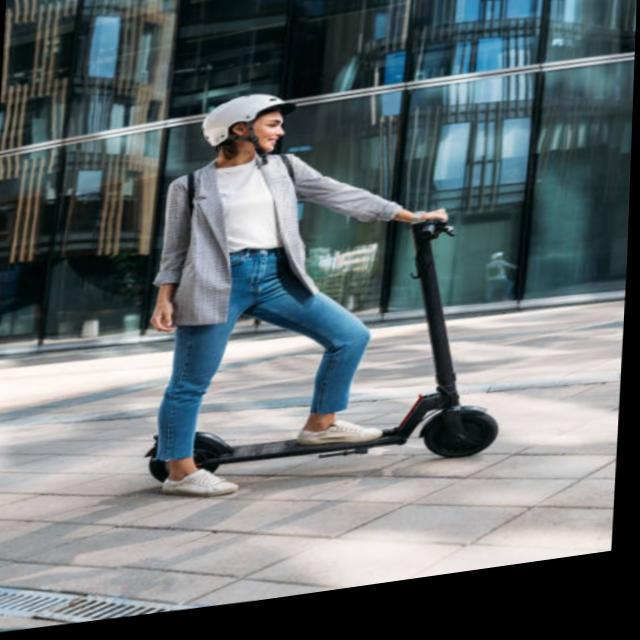Helmet: (192, 85, 300, 169)
